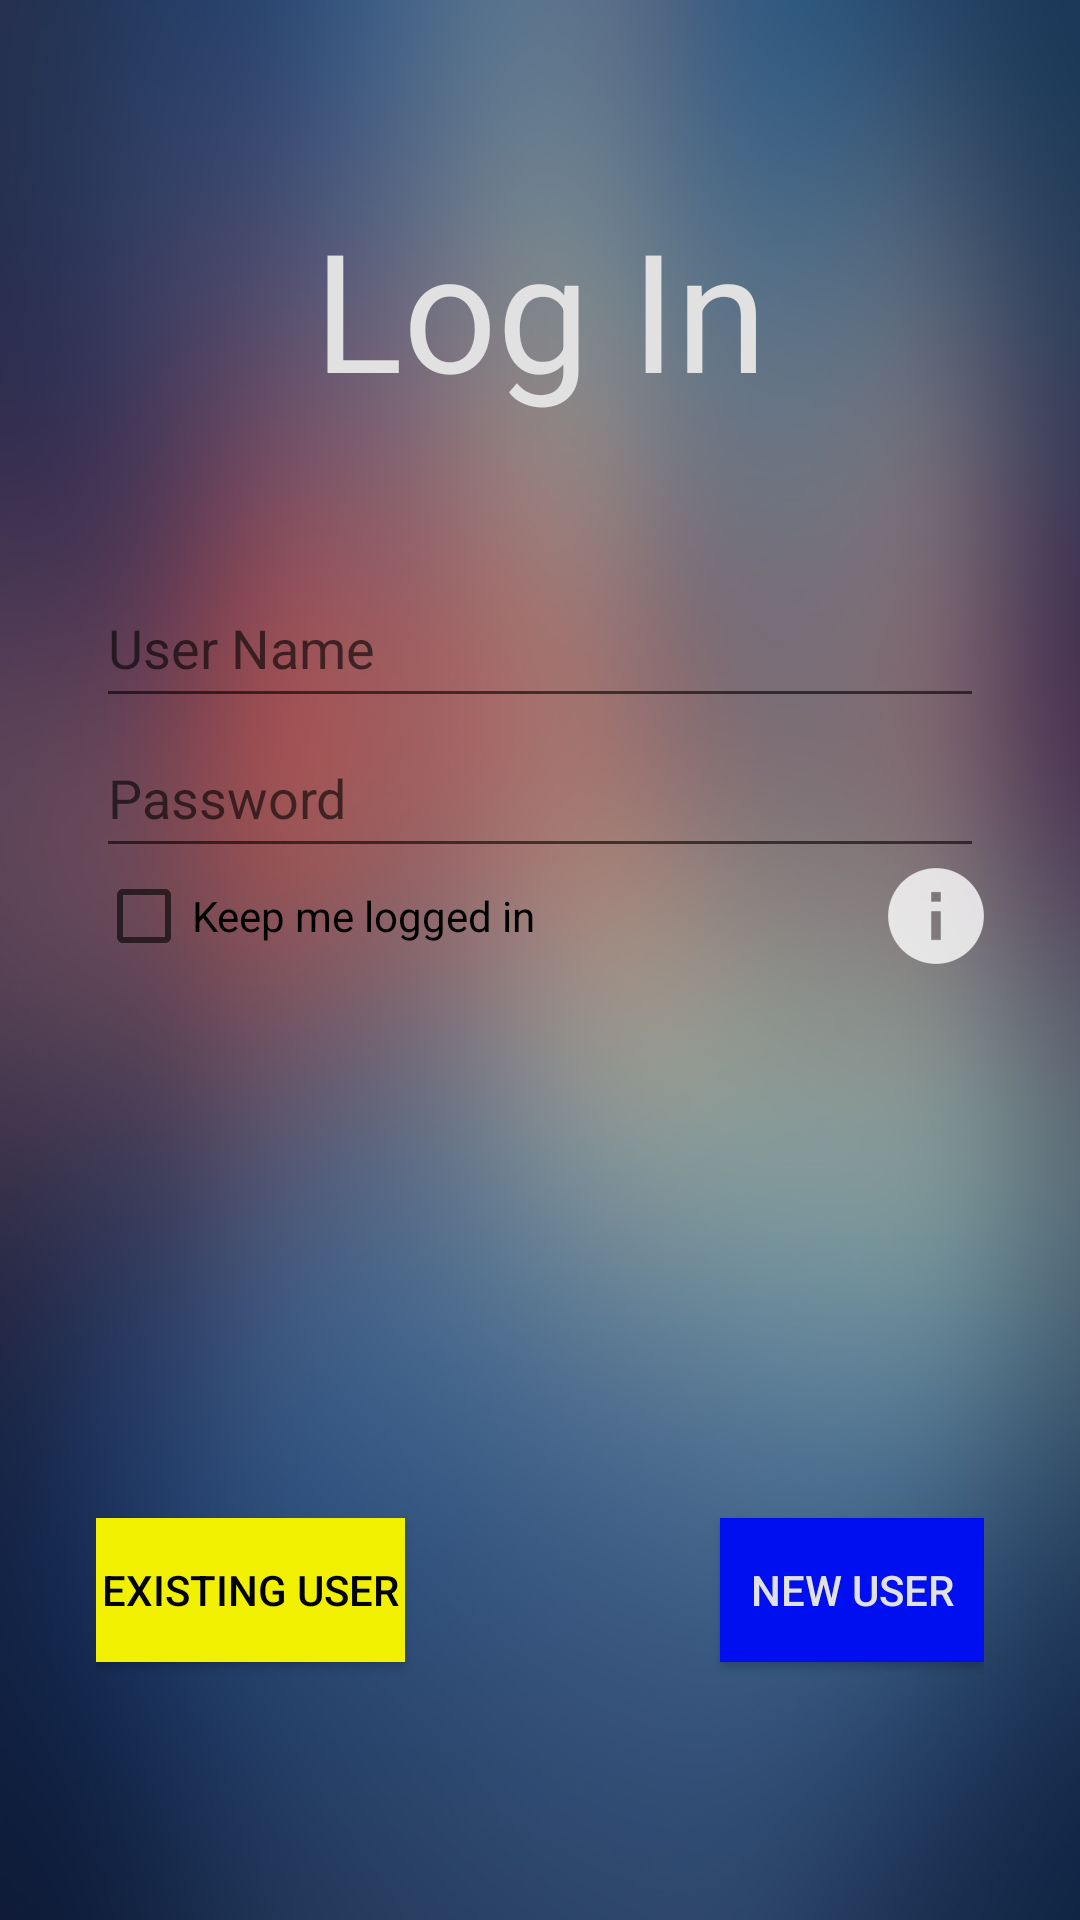

Icons on this 1080x1920 Android screen, each with its box as (left=x1, top=y1, right=x2, bottom=y2):
info: (left=888, top=868, right=984, bottom=964)
